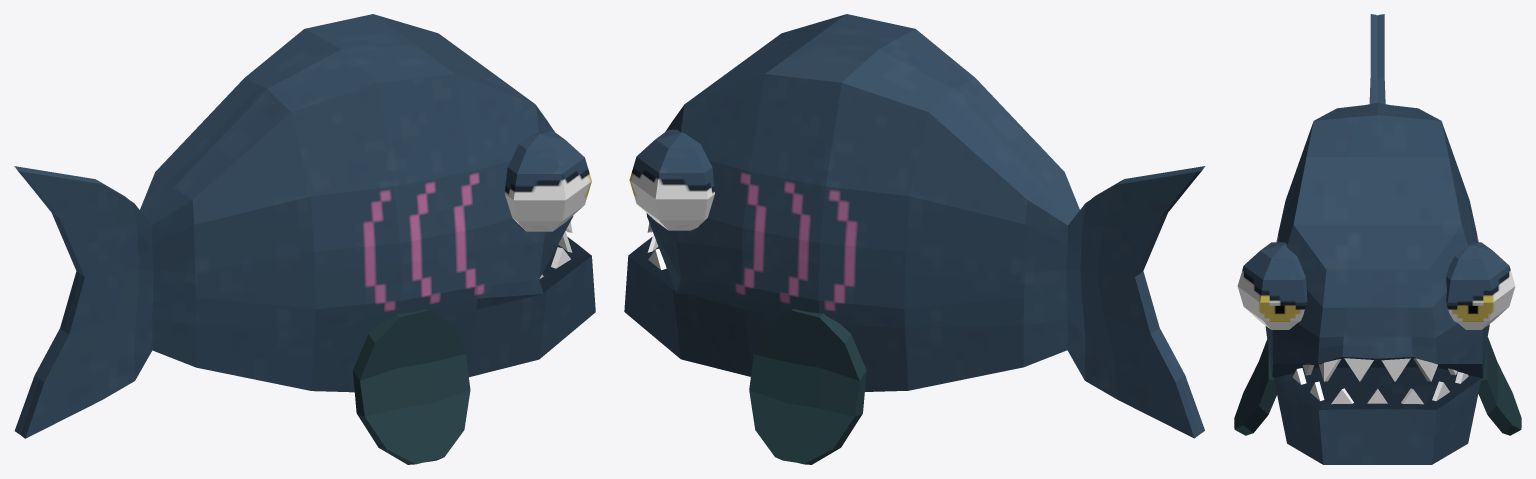
File: _PiranhaWTextures.fbx
The picture shows the model from 3 angles, left to right: view 1: azimuth 30°, elevation 25°; view 2: azimuth 150°, elevation 25°; view 3: azimuth 270°, elevation 25°; orthographic projection. The views are drawn at different scales.
Visible parts, largest first — view 1: Piranha 2, fin L.001, Sphere.007; view 2: Piranha 2, fin L.002, Sphere.008; view 3: Piranha 2, Sphere.007, Sphere.008, fin L.002, fin L.001, Cube, Cube.001.
Part boxes in pixels (x1,y1,x2,y2): Piranha 2: (14, 14, 595, 438); fin L.001: (353, 309, 470, 464); Sphere.007: (504, 130, 591, 231); Piranha 2: (624, 14, 1205, 438); fin L.002: (749, 309, 866, 464); Sphere.008: (629, 129, 714, 230); Piranha 2: (1265, 14, 1489, 464); Sphere.007: (1237, 242, 1307, 329); Sphere.008: (1446, 242, 1515, 329); fin L.002: (1478, 337, 1521, 435); fin L.001: (1234, 339, 1276, 435); Cube: (1302, 358, 1457, 381); Cube.001: (1292, 368, 1468, 404).
Bounding box in the file's own units: 51.15 × 32.2 × 26.83.
Materials: 2 (1 with a texture image).
